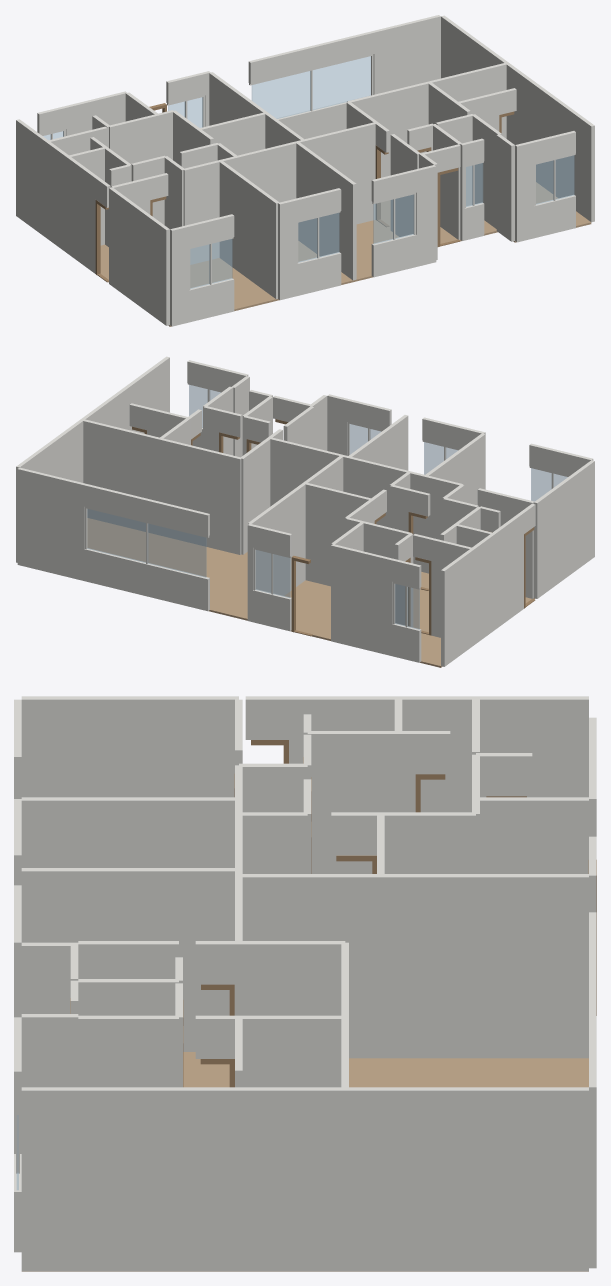
The model's file is high_quality_architectural_2530.glb.
3 views of the same model, one above another, from view 1: azimuth 30°, elevation 25°; view 2: azimuth 150°, elevation 25°; view 3: azimuth 270°, elevation 25° (orthographic). The views are drawn at different scales.
Parts seen in each view (by area): view 1: Wall_37_solid, Wall_35_solid, Wall_52_solid, Wall_42_solid, Window_22, Wall_12_solid, Wall_9_solid, Wall_12_lintel, Wall_27_solid, Wall_7_solid, Wall_2_solid, Wall_14_solid (+59 smaller); view 2: Wall_7_solid, Wall_12_solid, Floor_1_living_room, Wall_37_solid, Wall_6_solid, Window_22, Wall_30_solid, Wall_12_sill, Wall_16_solid, Wall_11_solid, Wall_27_solid, Wall_12_lintel (+56 smaller); view 3: Wall_5_solid, Wall_52_solid, Wall_11_solid, Wall_37_solid, Wall_48_solid, Wall_42_solid, Wall_35_solid, Wall_10_solid, Wall_54_solid, Wall_27_solid, Wall_19_solid, Wall_8_solid (+24 smaller).
Boxes of the visible parts, left/top/right/bottom form: Wall_37_solid: left=109, top=187, right=169, bottom=325; Wall_35_solid: left=219, top=160, right=279, bottom=299; Wall_52_solid: left=533, top=83, right=594, bottom=222; Wall_42_solid: left=295, top=141, right=356, bottom=280; Window_22: left=251, top=56, right=370, bottom=118; Wall_12_solid: left=372, top=15, right=440, bottom=94; Wall_9_solid: left=303, top=122, right=377, bottom=224; Wall_12_lintel: left=248, top=31, right=374, bottom=83; Wall_27_solid: left=16, top=119, right=49, bottom=237; Wall_7_solid: left=347, top=81, right=429, bottom=177; Wall_2_solid: left=183, top=160, right=220, bottom=264; Wall_14_solid: left=236, top=141, right=297, bottom=202; Wall_7_solid: left=159, top=438, right=241, bottom=554; Wall_12_solid: left=17, top=467, right=85, bottom=580; Floor_1_living_room: left=87, top=518, right=247, bottom=620; Wall_37_solid: left=533, top=460, right=594, bottom=598; Wall_6_solid: left=83, top=419, right=160, bottom=534; Window_22: left=87, top=509, right=206, bottom=577; Wall_30_solid: left=331, top=544, right=380, bottom=652; Wall_12_sill: left=84, top=548, right=209, bottom=611; Wall_16_solid: left=305, top=483, right=370, bottom=586; Wall_11_solid: left=248, top=483, right=305, bottom=595; Wall_27_solid: left=441, top=548, right=474, bottom=666; Wall_12_lintel: left=84, top=484, right=209, bottom=536; Wall_5_solid: left=345, top=1087, right=588, bottom=1271; Wall_52_solid: left=21, top=1087, right=238, bottom=1271; Wall_11_solid: left=380, top=874, right=588, bottom=1058; Wall_37_solid: left=21, top=696, right=238, bottom=797; Wall_48_solid: left=239, top=1087, right=345, bottom=1271; Wall_42_solid: left=21, top=868, right=234, bottom=1051; Wall_35_solid: left=21, top=797, right=238, bottom=867; Wall_10_solid: left=239, top=874, right=380, bottom=1058; Wall_54_solid: left=307, top=731, right=398, bottom=873; Wall_27_solid: left=476, top=696, right=588, bottom=797; Wall_19_solid: left=476, top=797, right=588, bottom=873; Wall_8_solid: left=239, top=941, right=345, bottom=1015.
Size of the model in its own units: 12.63 by 2.75 by 7.89.
